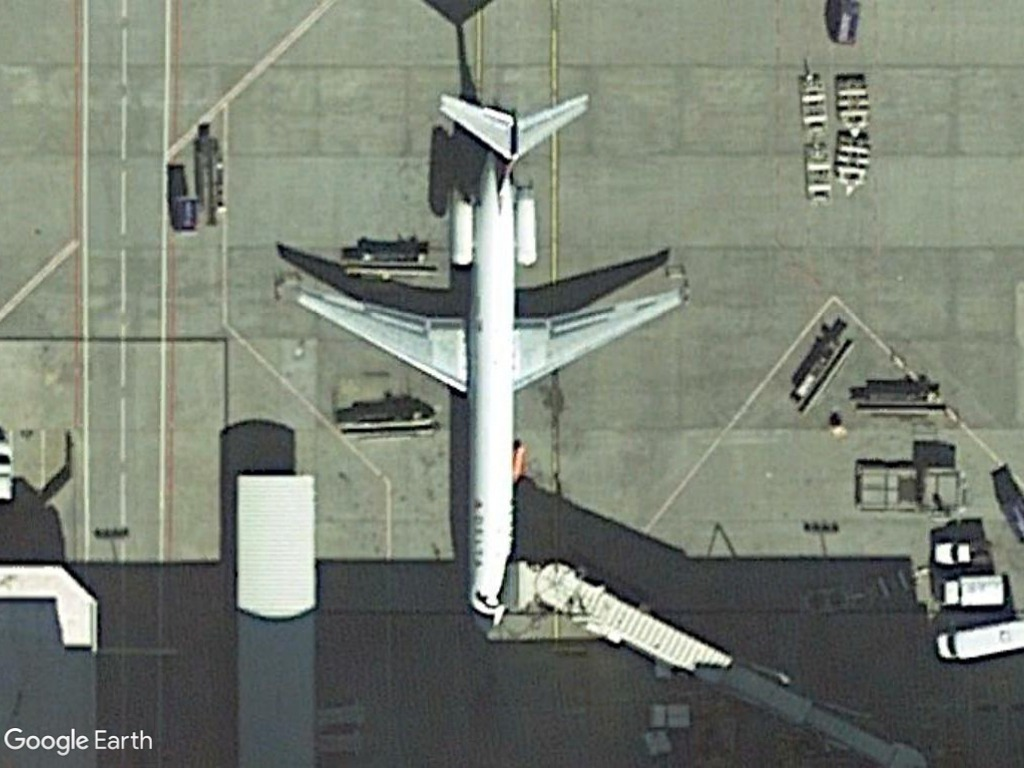chartered: (285, 83, 691, 629)
truck: (936, 571, 1006, 610)
van: (927, 613, 1024, 669)
